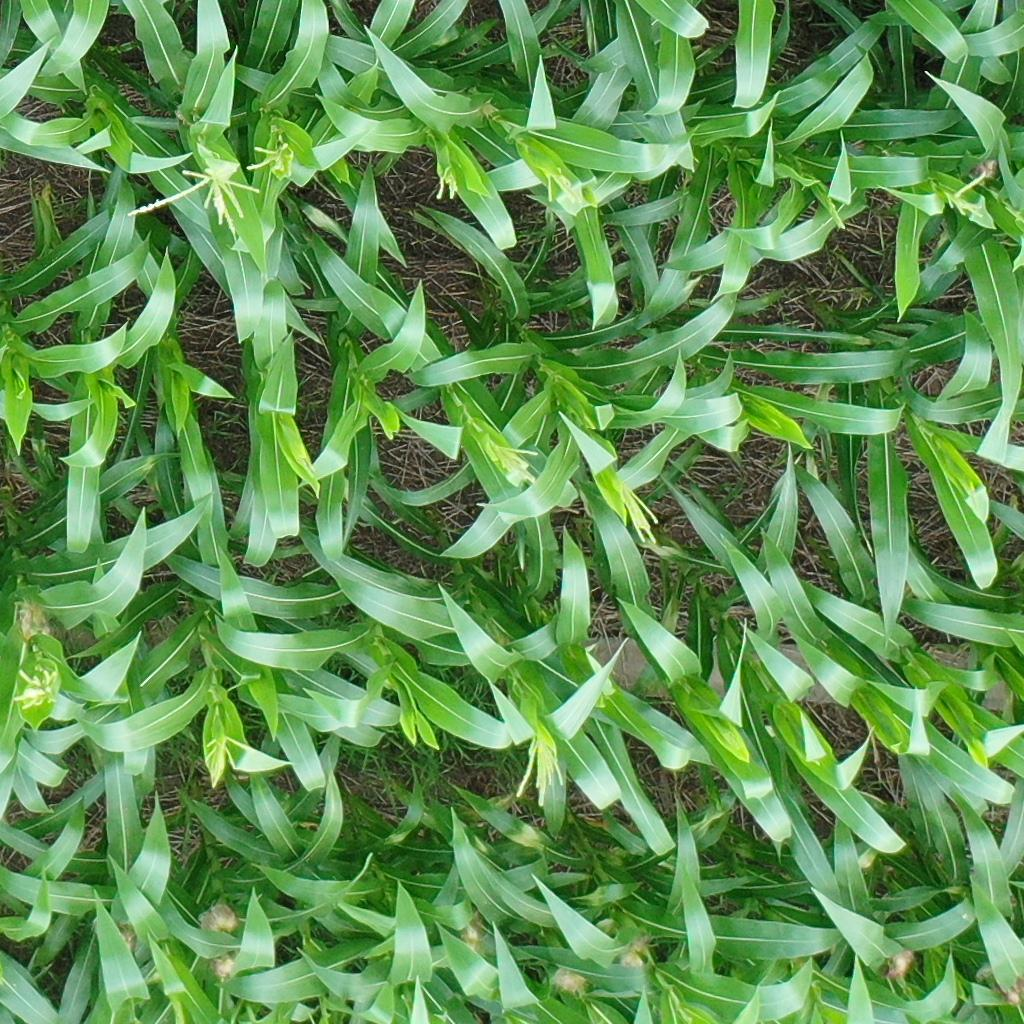Tassel: (126, 154, 261, 227), (514, 736, 569, 806), (485, 432, 544, 488), (614, 476, 661, 542), (943, 169, 991, 223), (541, 167, 600, 210), (8, 666, 59, 709), (200, 735, 236, 784), (244, 142, 294, 176), (430, 162, 463, 203)
